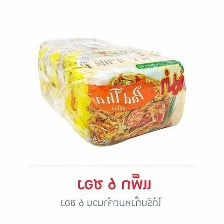snack: (32, 30, 194, 153)
